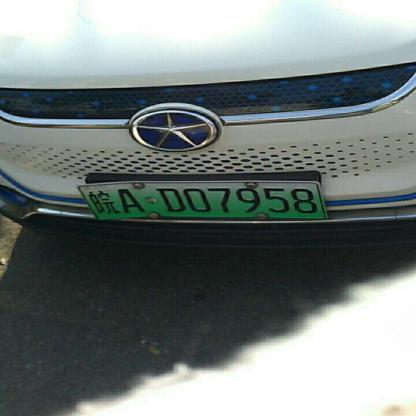lp: (78, 183, 325, 219)
